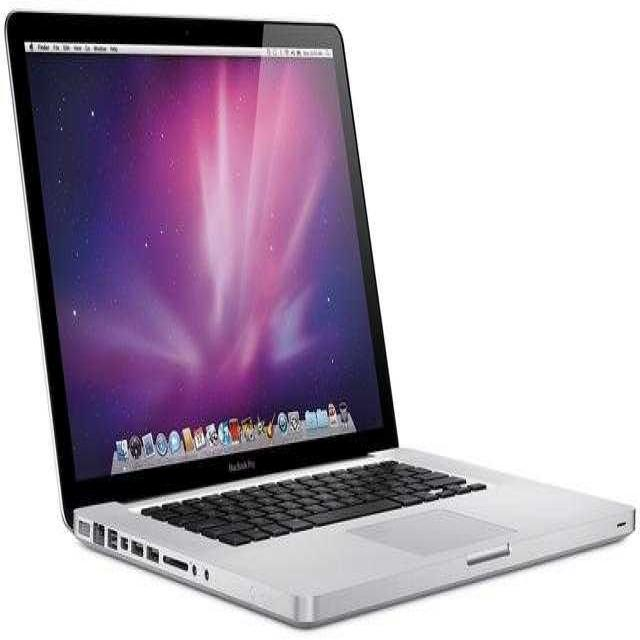laptop: (7, 15, 638, 615)
